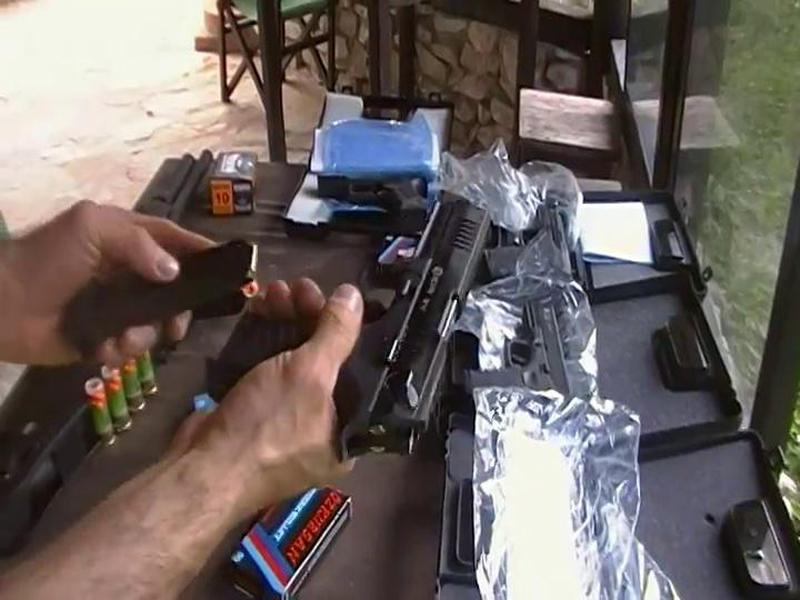Pistola: (221, 189, 515, 464)
